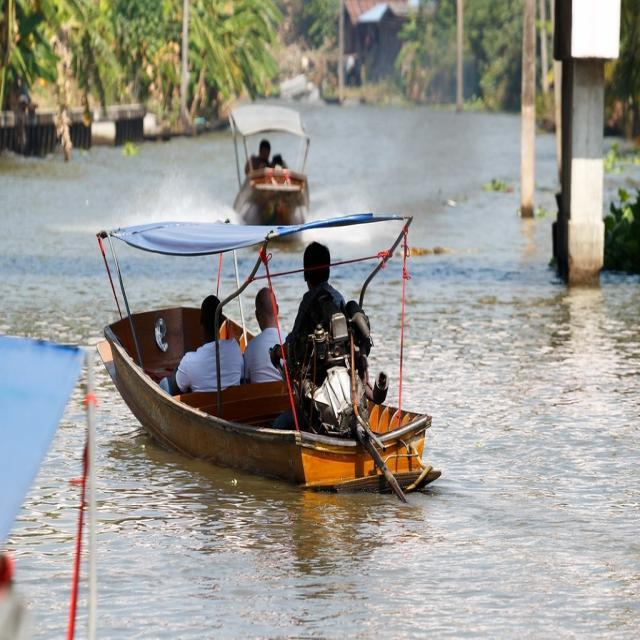Hyacinth: (610, 142, 640, 166), (115, 142, 149, 162), (485, 179, 516, 199)
boat: (86, 204, 462, 490), (218, 104, 326, 230)
